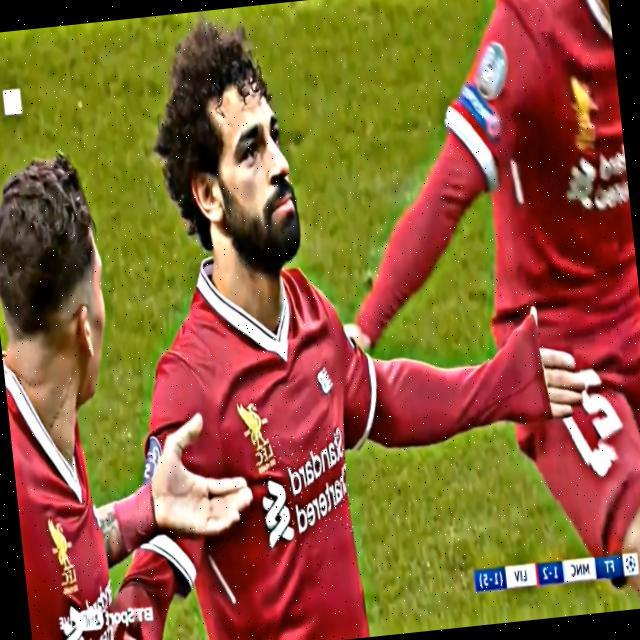Standard Chartered: (255, 427, 355, 549), (565, 146, 630, 216)
